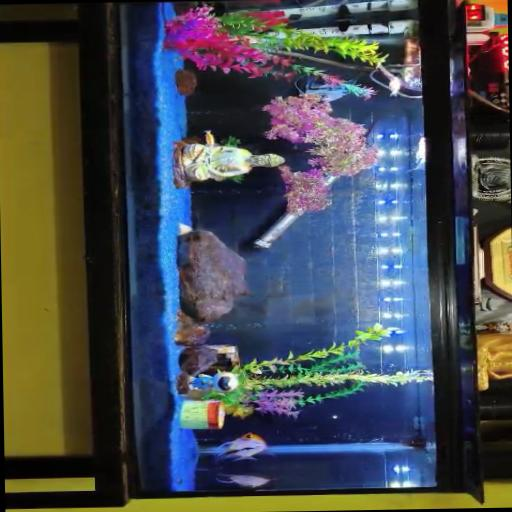Fish: (216, 432, 265, 459), (216, 473, 269, 486)
